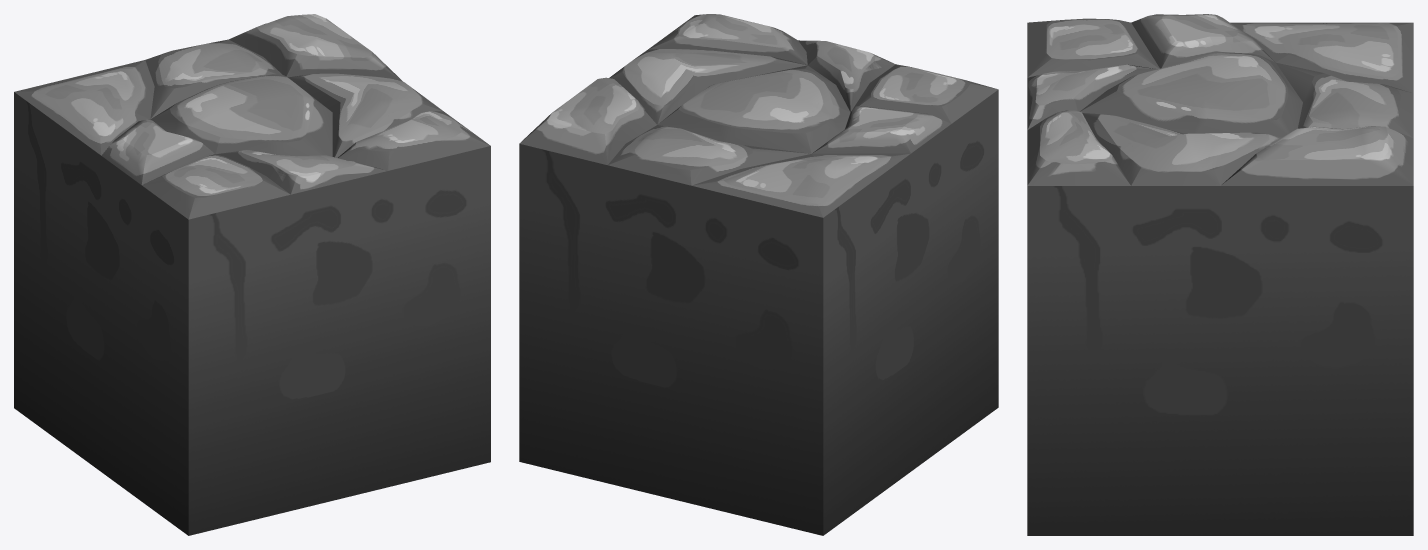
File: stoneyFloor_Variant1.fbx
3 views of the same model, side by side, from view 1: azimuth 30°, elevation 25°; view 2: azimuth 150°, elevation 25°; view 3: azimuth 270°, elevation 25° (orthographic). The views are drawn at different scales.
Visible parts, largest first — view 1: dungeonFloorTileV1; view 2: dungeonFloorTileV1; view 3: dungeonFloorTileV1.
Boxes of the visible parts, <box> form: dungeonFloorTileV1: <box>14,14,490,535</box>; dungeonFloorTileV1: <box>519,14,998,535</box>; dungeonFloorTileV1: <box>1027,14,1413,535</box>.
Size of the model in its own units: 1 by 1.09 by 1.
Materials: 1 (1 with a texture image).
